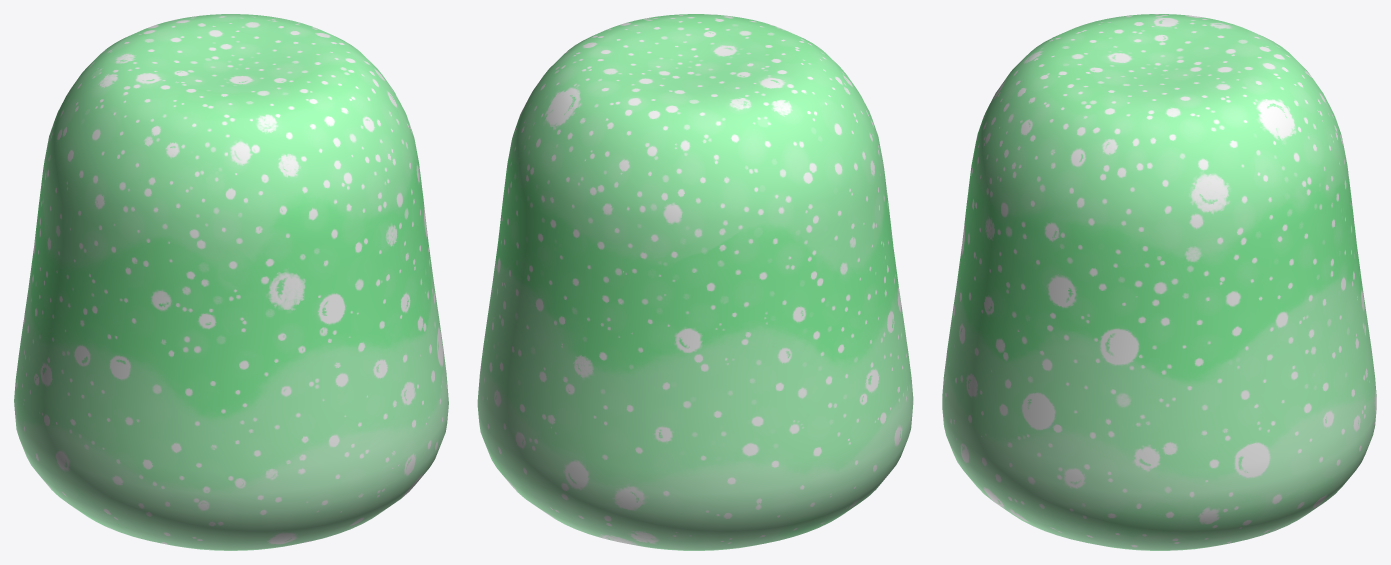
Rendered from greenGum.glb.
3 renders of one model, left to right at view 1: azimuth 30°, elevation 25°; view 2: azimuth 150°, elevation 25°; view 3: azimuth 270°, elevation 25°, orthographic.
Visible parts, largest first — view 1: gumdropgreen; view 2: gumdropgreen; view 3: gumdropgreen.
Part boxes in pixels (x1,y1,x2,y2): gumdropgreen: (14, 14, 448, 550); gumdropgreen: (477, 14, 913, 550); gumdropgreen: (942, 14, 1376, 550).
Size of the model in its own units: 0.6912 by 0.7596 by 0.6905.
Materials: 1 (1 with a texture image).
